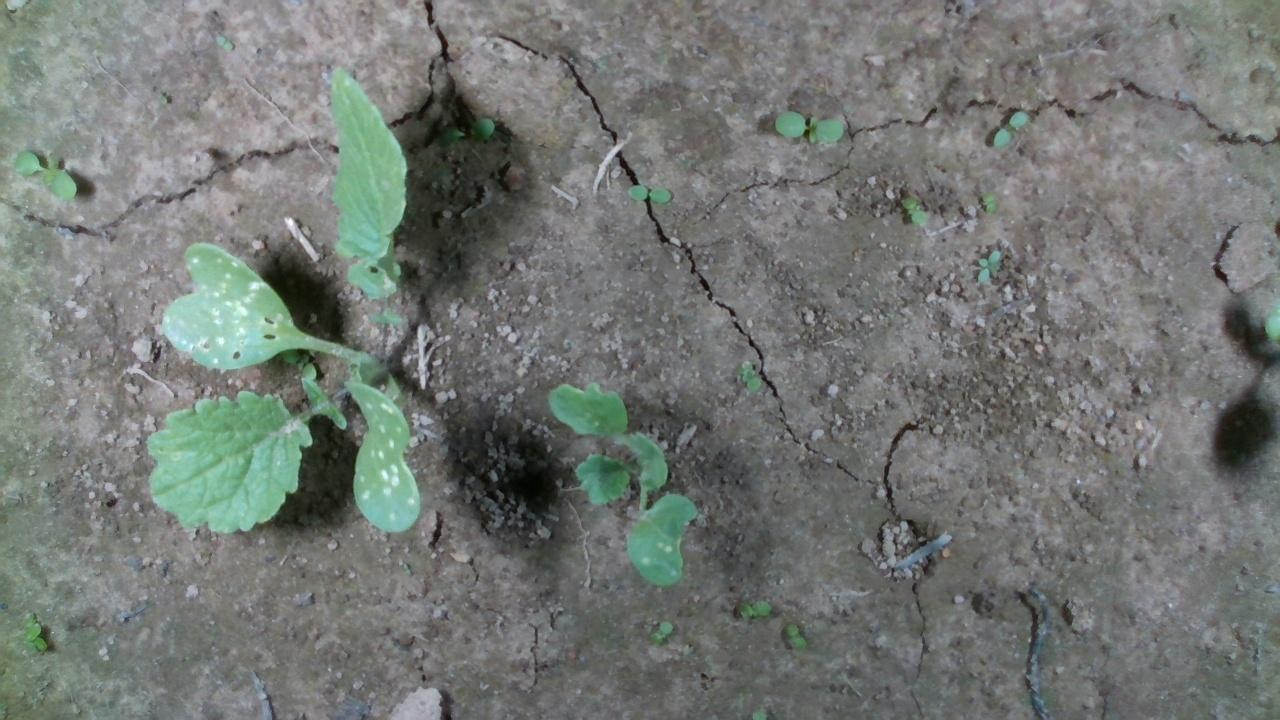weed: (772, 107, 844, 144), (435, 115, 495, 144), (988, 109, 1030, 148), (624, 181, 673, 203), (973, 248, 1003, 283), (898, 194, 928, 225), (731, 598, 771, 621), (735, 361, 762, 390), (783, 619, 806, 652), (649, 618, 674, 644), (213, 32, 234, 52)
